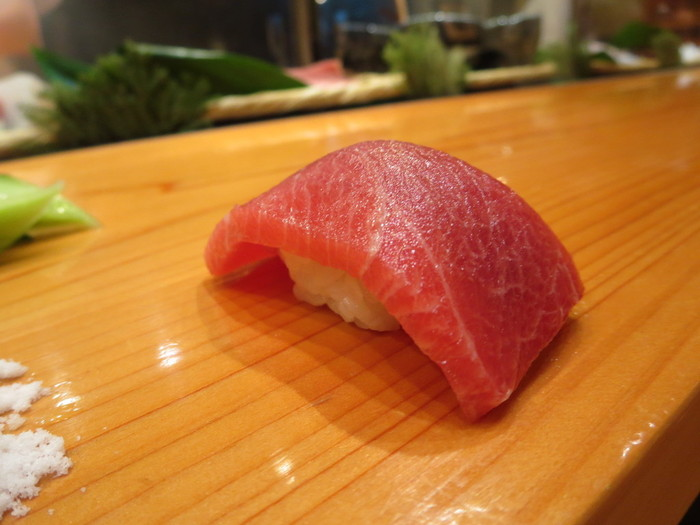medium_fatty_tuna: (203, 137, 589, 431)
